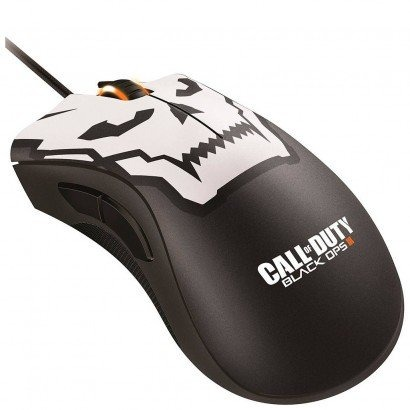mouse: (9, 71, 403, 405)
